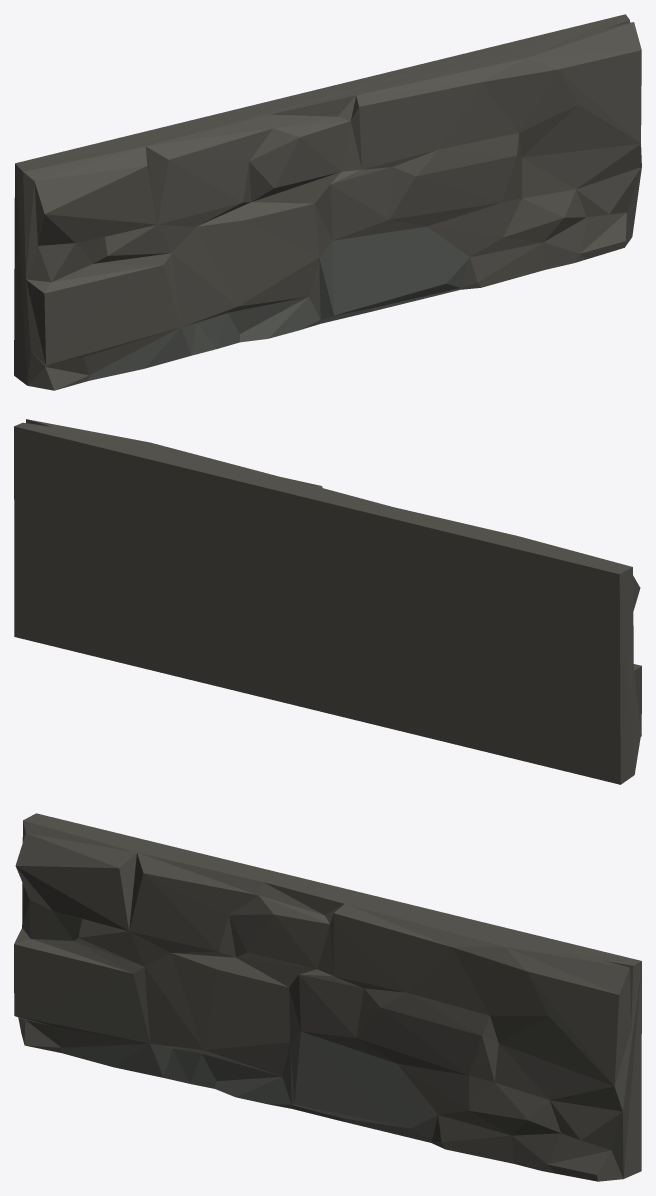
The model's file is MDungeons_Walls_Base_LowerThird.FBX.
3 renders of one model, top to bottom at view 1: azimuth 30°, elevation 25°; view 2: azimuth 150°, elevation 25°; view 3: azimuth 330°, elevation 25°, orthographic.
Visible parts, largest first — view 1: MDungeons_Walls_Base_LowerThird_LOD0; view 2: MDungeons_Walls_Base_LowerThird_LOD0; view 3: MDungeons_Walls_Base_LowerThird_LOD0.
Part boxes in pixels (x1,y1,x2,y2): MDungeons_Walls_Base_LowerThird_LOD0: [14, 14, 641, 390]; MDungeons_Walls_Base_LowerThird_LOD0: [14, 419, 641, 784]; MDungeons_Walls_Base_LowerThird_LOD0: [14, 813, 641, 1181].
Size of what is drawn, in the model's own units: 6 by 1.99 by 0.4979.
